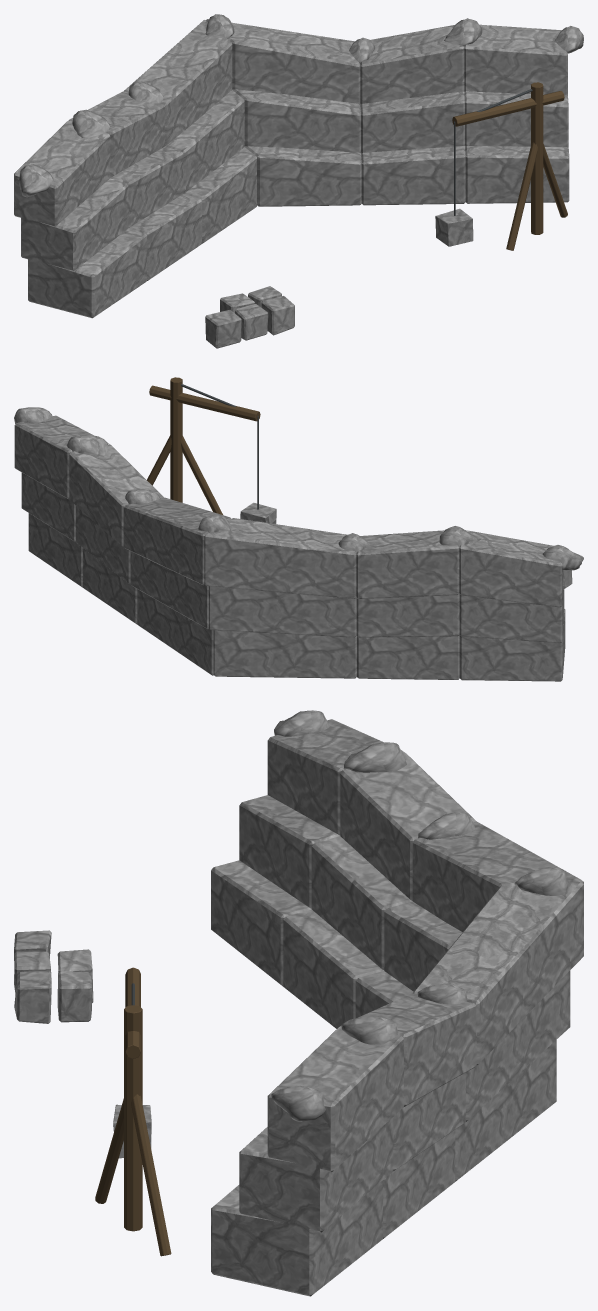
File: EnvironmentQuarry.glb
3 renders of one model, top to bottom at view 1: azimuth 30°, elevation 25°; view 2: azimuth 150°, elevation 25°; view 3: azimuth 270°, elevation 25°, orthographic. The views are drawn at different scales.
Visible parts, largest first — view 1: Quarry cut faces and broken benches.001, Quarry timber derrick and hanging stone.001, Quarry extracted limestone stock.001, Quarry retained embedded rim rock 00, Quarry retained embedded rim rock 01, Quarry retained embedded rim rock 05, Quarry retained embedded rim rock 02, Quarry retained embedded rim rock 06, Quarry retained embedded rim rock 03, Quarry retained embedded rim rock 04; view 2: Quarry cut faces and broken benches.001, Quarry timber derrick and hanging stone.001, Quarry retained embedded rim rock 05, Quarry retained embedded rim rock 00, Quarry retained embedded rim rock 01, Quarry retained embedded rim rock 06, Quarry retained embedded rim rock 03, Quarry retained embedded rim rock 04, Quarry retained embedded rim rock 02; view 3: Quarry cut faces and broken benches.001, Quarry timber derrick and hanging stone.001, Quarry extracted limestone stock.001, Quarry retained embedded rim rock 01, Quarry retained embedded rim rock 06, Quarry retained embedded rim rock 05, Quarry retained embedded rim rock 03, Quarry retained embedded rim rock 02, Quarry retained embedded rim rock 00, Quarry retained embedded rim rock 04.
Boxes of the visible parts, x1,y1,x2,y2 form: Quarry cut faces and broken benches.001: [14, 19, 569, 318]; Quarry timber derrick and hanging stone.001: [435, 82, 567, 250]; Quarry extracted limestone stock.001: [205, 286, 294, 348]; Quarry retained embedded rim rock 00: [18, 164, 53, 197]; Quarry retained embedded rim rock 01: [72, 109, 109, 137]; Quarry retained embedded rim rock 05: [444, 18, 482, 46]; Quarry retained embedded rim rock 02: [128, 81, 163, 103]; Quarry retained embedded rim rock 06: [555, 26, 583, 53]; Quarry retained embedded rim rock 03: [205, 14, 234, 38]; Quarry retained embedded rim rock 04: [349, 37, 375, 63]; Quarry cut faces and broken benches.001: [14, 415, 565, 681]; Quarry timber derrick and hanging stone.001: [147, 377, 276, 523]; Quarry retained embedded rim rock 05: [66, 435, 107, 456]; Quarry retained embedded rim rock 00: [542, 545, 583, 570]; Quarry retained embedded rim rock 01: [439, 526, 480, 546]; Quarry retained embedded rim rock 06: [14, 407, 52, 423]; Quarry retained embedded rim rock 03: [198, 514, 233, 532]; Quarry retained embedded rim rock 04: [125, 489, 159, 504]; Quarry retained embedded rim rock 02: [338, 533, 370, 552]; Quarry cut faces and broken benches.001: [211, 719, 583, 1296]; Quarry timber derrick and hanging stone.001: [95, 967, 171, 1256]; Quarry extracted limestone stock.001: [14, 930, 93, 1023]; Quarry retained embedded rim rock 01: [343, 742, 406, 772]; Quarry retained embedded rim rock 06: [271, 1086, 325, 1121]; Quarry retained embedded rim rock 05: [341, 1016, 398, 1044]; Quarry retained embedded rim rock 03: [514, 867, 568, 895]; Quarry retained embedded rim rock 02: [418, 812, 475, 839]; Quarry retained embedded rim rock 00: [274, 710, 329, 736]; Quarry retained embedded rim rock 04: [417, 983, 467, 1004].
Bounding box in the file's own units: 19.24 × 5.2 × 11.34.
7 materials, 5 textured.
